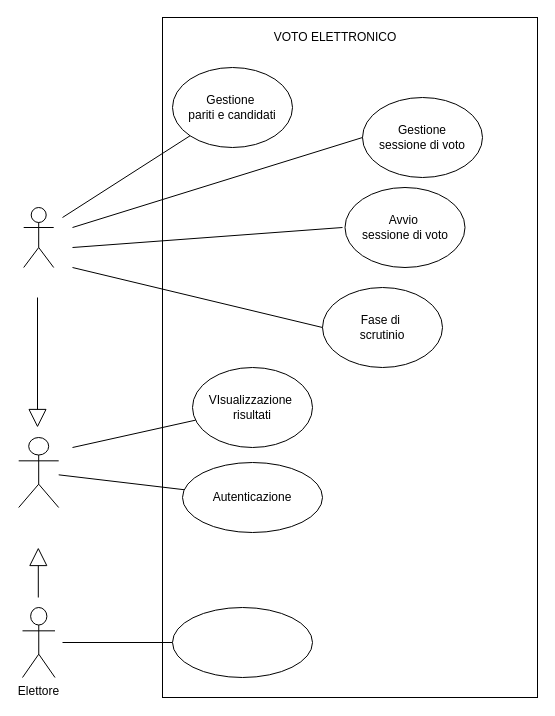
The diagram is 555 pixels wide and 716 high, and some of its shapes have lost their labels. The box of each missing label's shape, as (x1, y1, x2, y2) in pixels:
Gestore: (23, 206, 54, 268)
Utente: (18, 436, 59, 508)
Votazione: (172, 606, 312, 678)
